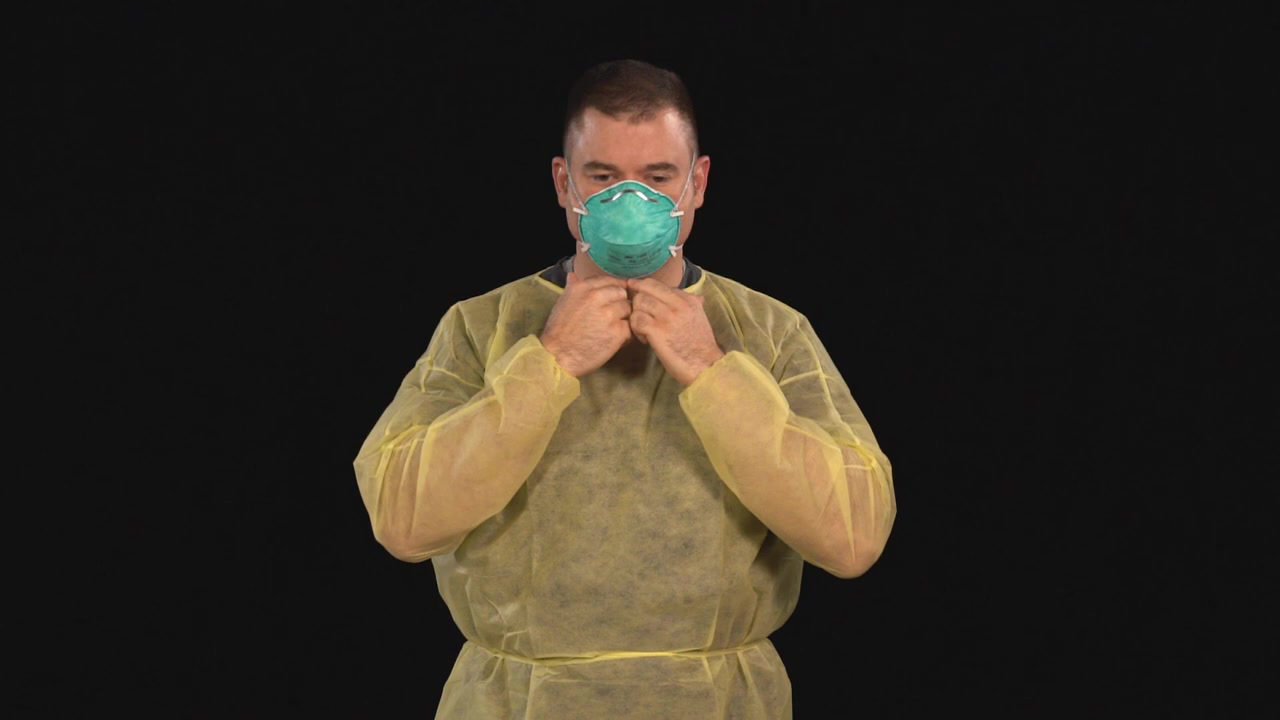Coverall: (400, 269, 820, 720)
with_mask: (571, 168, 687, 287)
